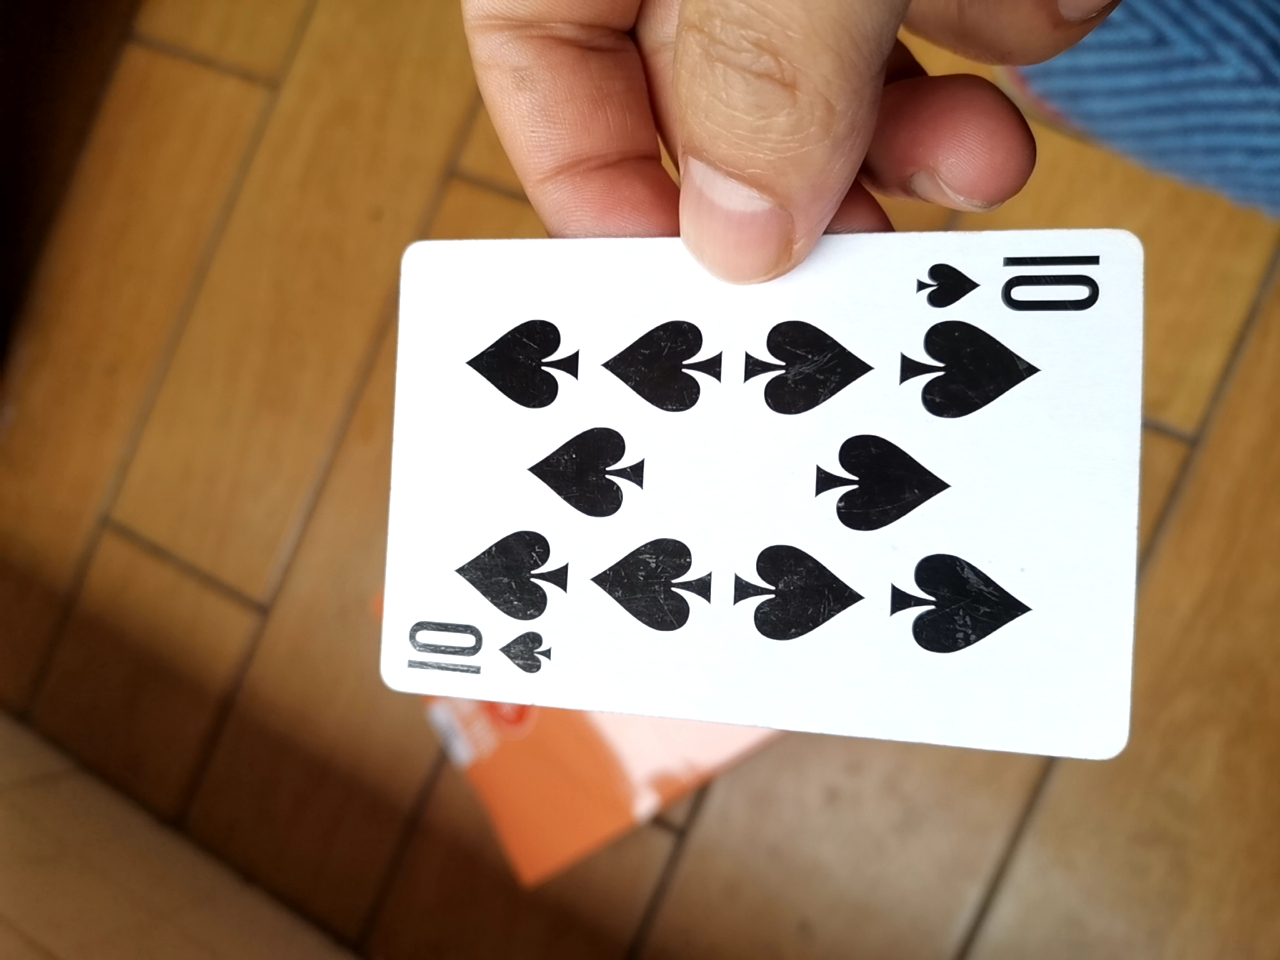ht 10: (359, 215, 1140, 764)
